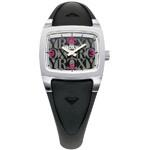watch: (33, 17, 112, 90)
